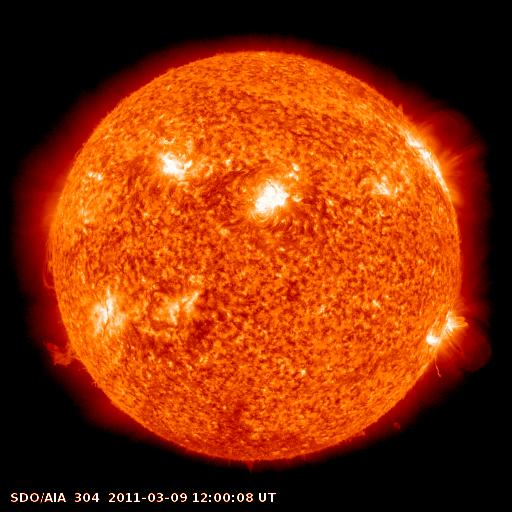prominence: (33, 321, 88, 379), (37, 229, 62, 298), (426, 344, 451, 389)
